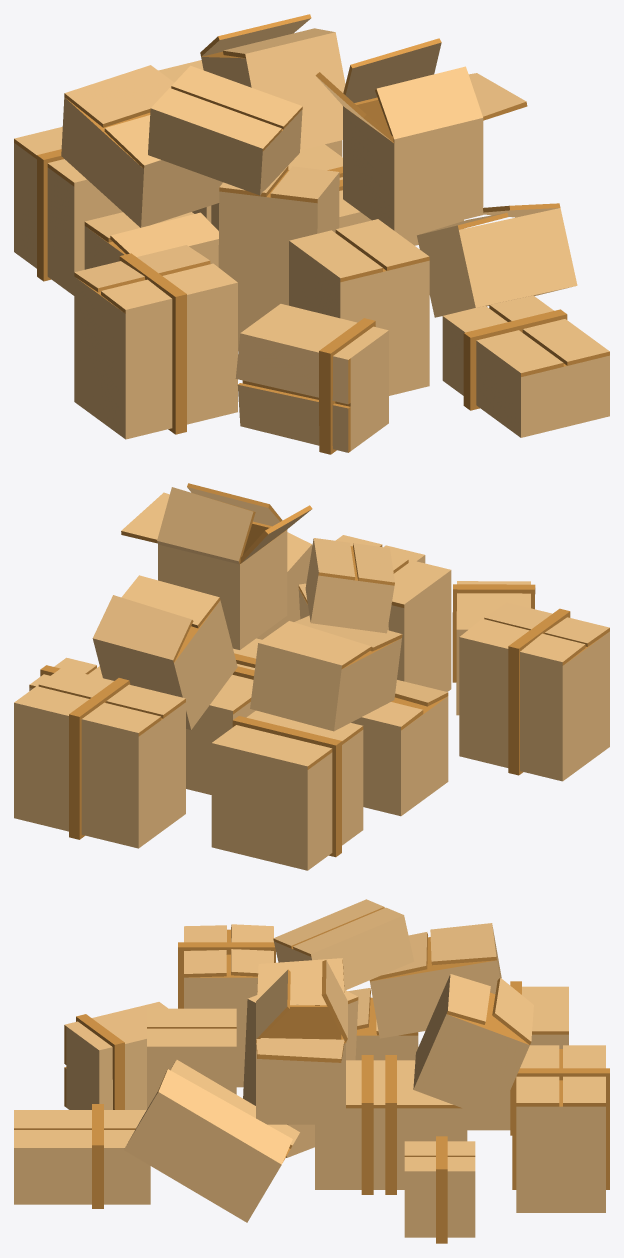
The model's file is Pile of boxes.glb.
3 views of the same model, one above another, from view 1: azimuth 30°, elevation 25°; view 2: azimuth 150°, elevation 25°; view 3: azimuth 270°, elevation 25° (orthographic). The views are drawn at different scales.
Parts seen in each view (by area): view 1: group1550060828, group662699742, group450953391, group687297128, group2058978812, group1858705560, group1784178771, group1310806435, group1685798684, group688949854, group736931780, group1010791721 (+8 smaller); view 2: group540131674, group1550060828, group736931780, group688949854, group2058978812, group306300360, group1784178771, group1858705560, group687297128, group872165803, group1459048230, group662699742 (+9 smaller); view 3: group1310806435, group540131674, group688949854, group450953391, group1459048230, group2058978812, group662699742, group1784178771, group1858705560, group1550060828, group687297128, group562916422 (+12 smaller).
Boxes of the visible parts, x1,y1,x2,y2 form: group1550060828: (74, 245, 237, 439); group662699742: (235, 304, 388, 454); group450953391: (442, 295, 609, 437); group687297128: (289, 219, 429, 395); group2058978812: (61, 65, 222, 227); group1858705560: (148, 65, 302, 195); group1784178771: (343, 97, 483, 234); group1310806435: (417, 203, 577, 317); group1685798684: (218, 166, 339, 350); group688949854: (200, 14, 345, 150); group736931780: (14, 127, 122, 295); group1010791721: (375, 66, 483, 143); group540131674: (14, 668, 185, 848); group1550060828: (459, 602, 609, 781); group736931780: (211, 710, 363, 870); group688949854: (92, 575, 237, 729); group2058978812: (250, 615, 402, 731); group306300360: (351, 680, 448, 816); group1784178771: (158, 521, 287, 649); group1858705560: (305, 538, 394, 633); group687297128: (388, 555, 451, 691); group872165803: (157, 487, 255, 564); group1459048230: (186, 638, 261, 794); group662699742: (452, 581, 535, 715); group1310806435: (124, 1060, 299, 1222); group540131674: (516, 1045, 605, 1212); group688949854: (413, 974, 533, 1120); group450953391: (14, 1104, 150, 1208); group1459048230: (315, 1060, 467, 1189); group2058978812: (369, 923, 501, 1038); group662699742: (64, 1002, 167, 1109); group1784178771: (256, 1005, 345, 1124); group1858705560: (273, 899, 414, 990); group1550060828: (184, 924, 273, 1087); group687297128: (147, 1008, 236, 1108); group562916422: (404, 1141, 475, 1237).
Bounding box in the file's own units: 1.21 × 0.6188 × 1.53.
